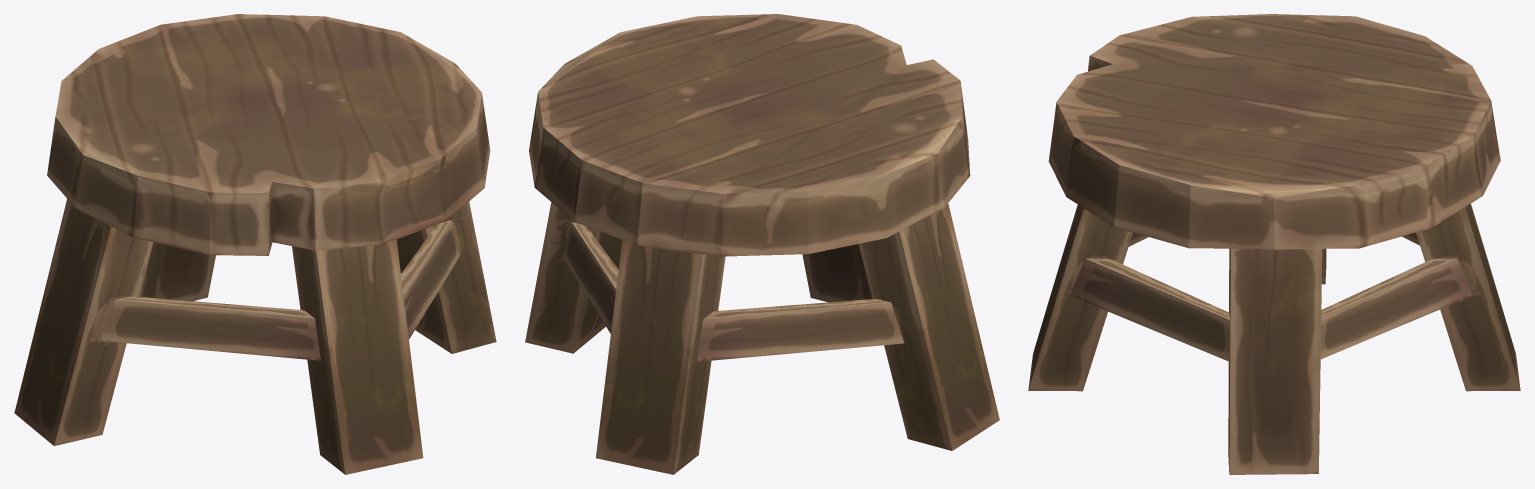
File: SM_Chair_02.fbx
3 views of the same model, side by side, from view 1: azimuth 30°, elevation 25°; view 2: azimuth 150°, elevation 25°; view 3: azimuth 270°, elevation 25° (orthographic).
Visible parts, largest first — view 1: SM_Chair_02_LOD0; view 2: SM_Chair_02_LOD0; view 3: SM_Chair_02_LOD0.
Boxes of the visible parts, bbox=[...] form: SM_Chair_02_LOD0: bbox=[14, 14, 496, 474]; SM_Chair_02_LOD0: bbox=[525, 14, 999, 474]; SM_Chair_02_LOD0: bbox=[1028, 14, 1520, 474].
Size of the model in its own units: 81.68 by 79.15 by 48.66.
Materials: 1 (1 with a texture image).
